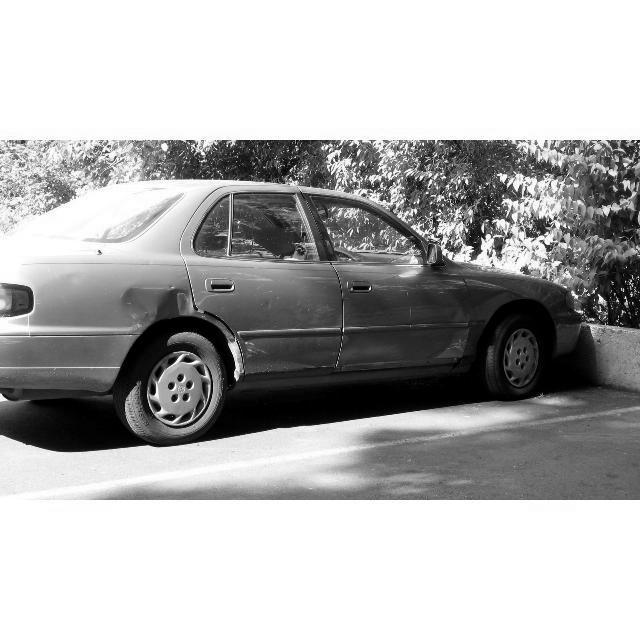quaterpanel-dent: (94, 260, 198, 336)
